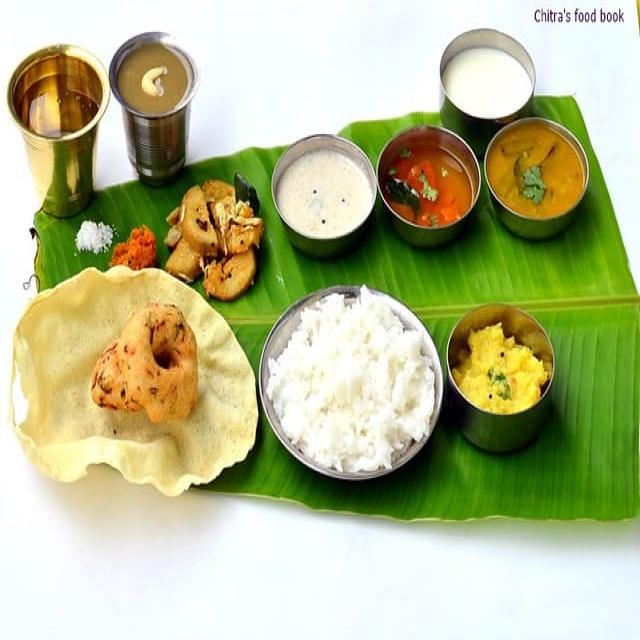veg meals: (13, 90, 640, 536)
